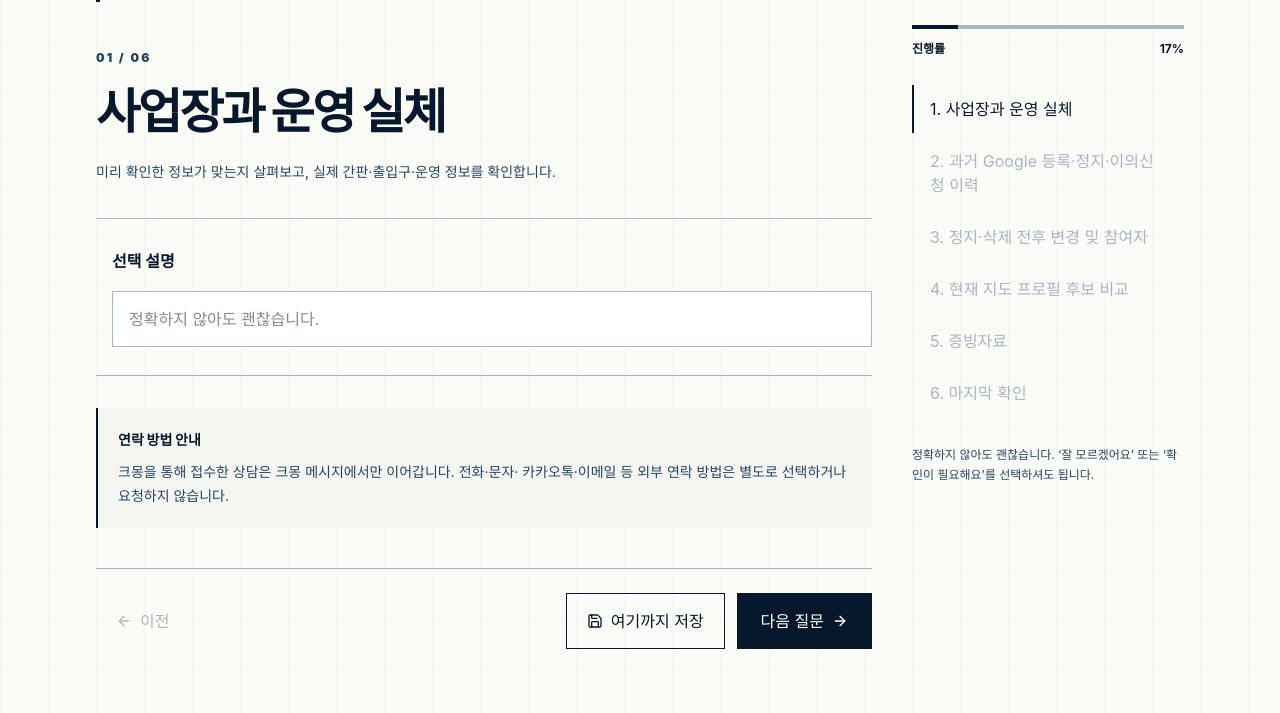
Scenario: customer intake step navigation › uses canonical section order even when questions arrive in another order
(page scrolled)
Check: the field labelled "선택 설명" is shown, box [112,291,872,347]
Check: the field labelled "세 번째 단계 질문" is not shown
Click the button "다음 질문".
click(804, 621)  # box [737,593,872,649]
(page scrolled)
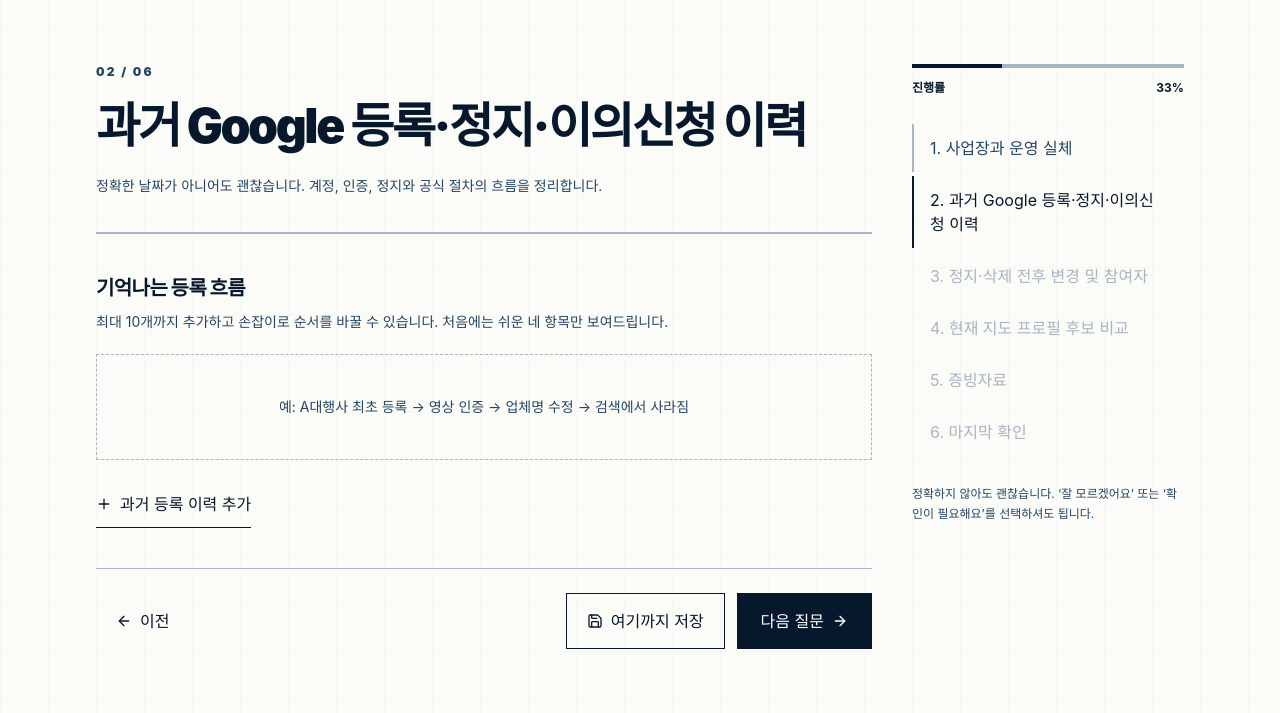
Click the button "다음 질문".
click(804, 621)  # box [737,593,872,649]
(page scrolled)
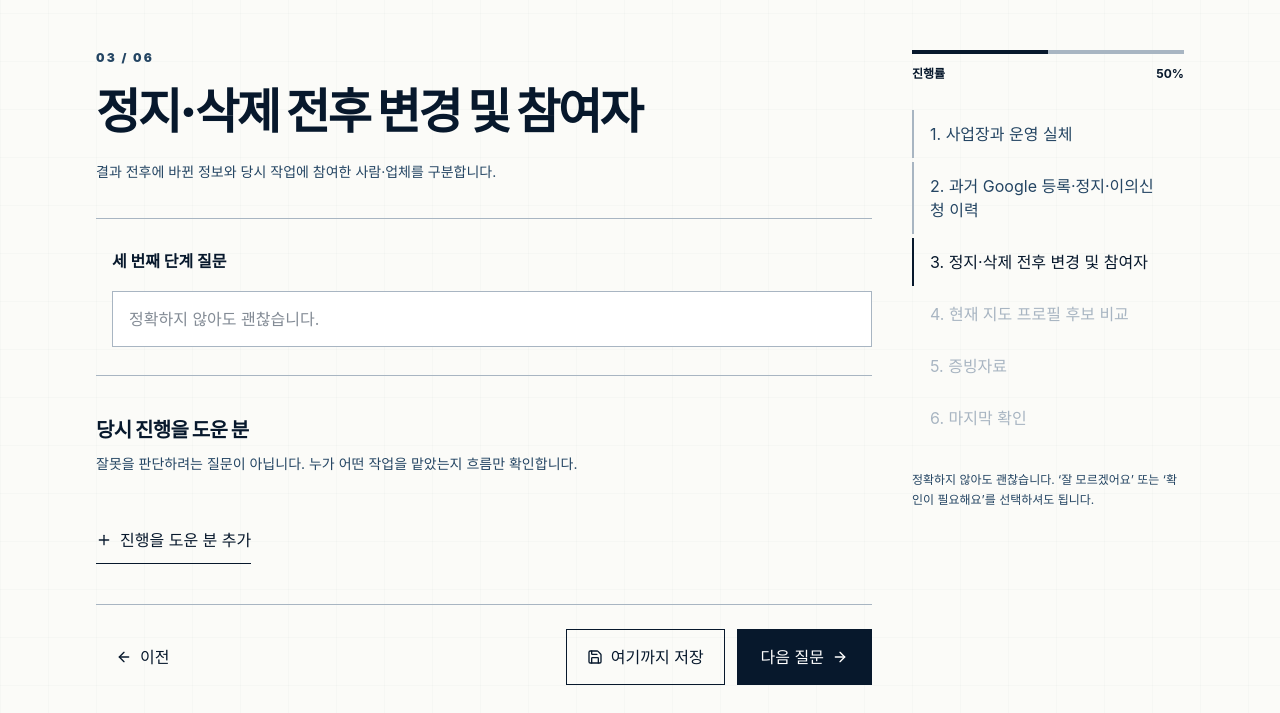
Check: the field labelled "세 번째 단계 질문" is shown, box [112,291,872,347]
